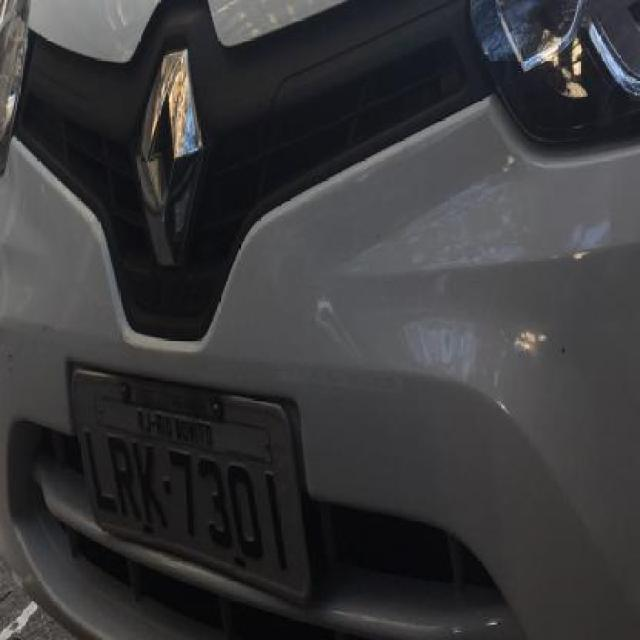old_plate: (65, 364, 323, 614)
